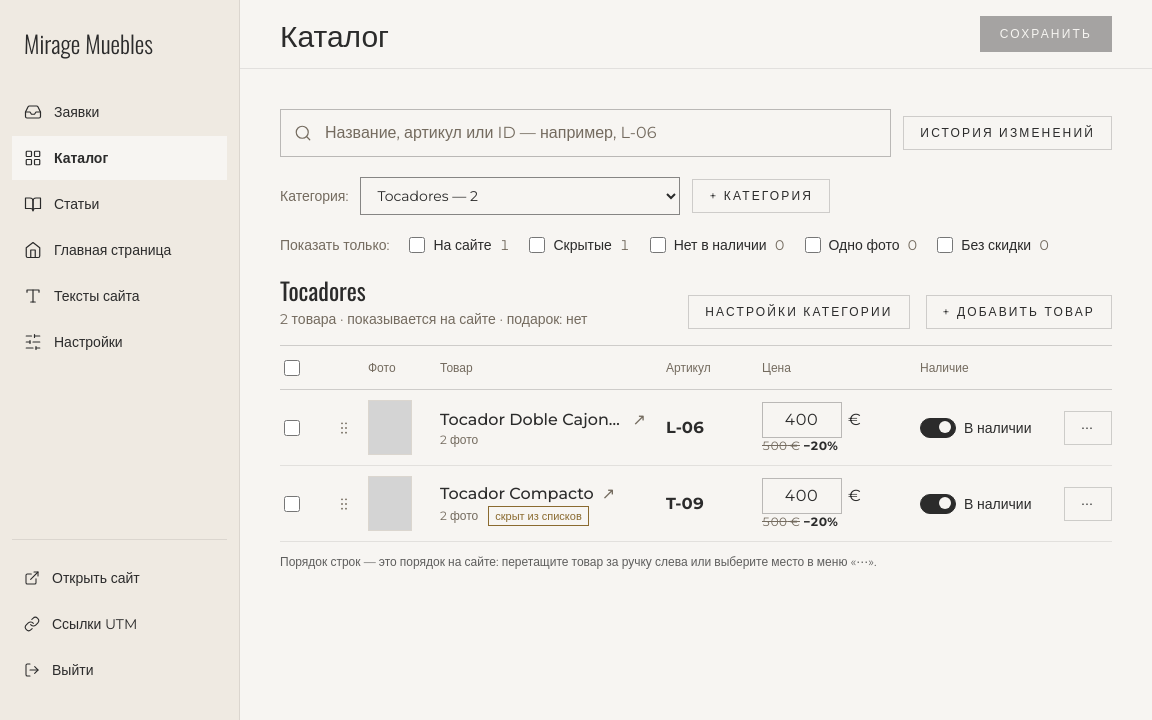
Test: CatalogSection — the product panel › opens a product from its row, and Back closes it
The width and height of the screenshot is (1152, 720).
expect the dropdown labelled "Категория:" is shown: met, box [360, 177, 680, 215]
Click the link "Tocador Doble Cajonera" at (532, 420), box [440, 408, 625, 432]
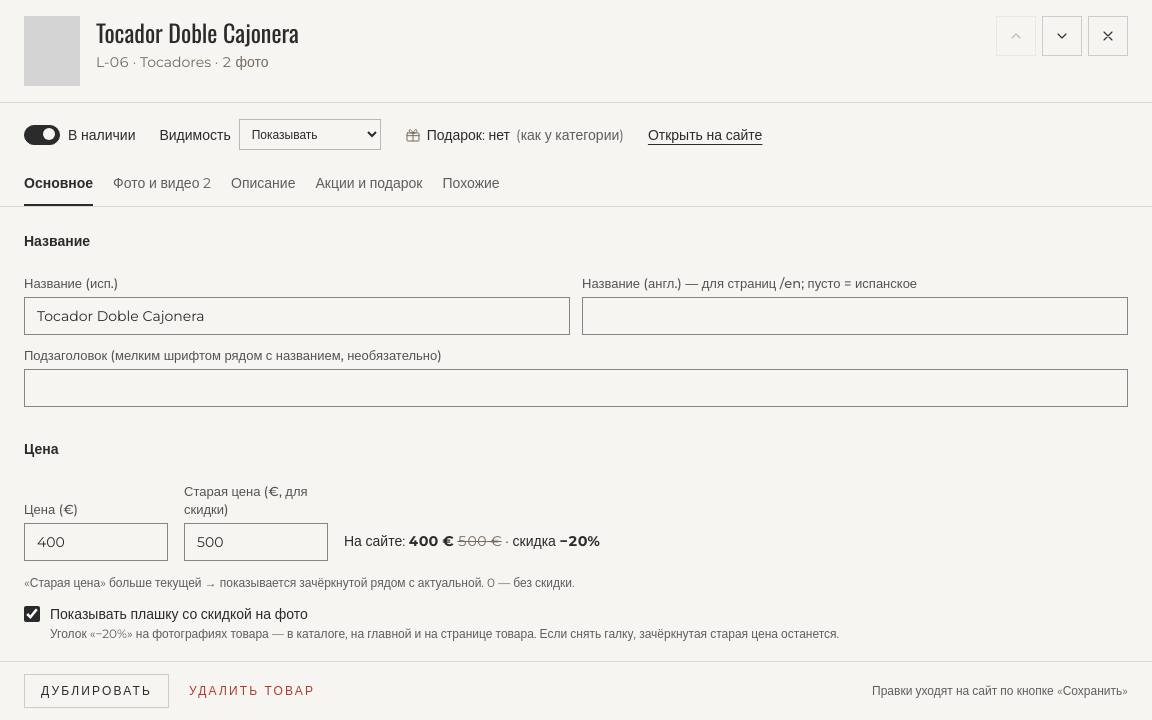
expect the dialog "Tocador Doble Cajonera" is shown: met
Click the button named "Закрыть товар" at (1108, 36), box [1088, 16, 1128, 56]
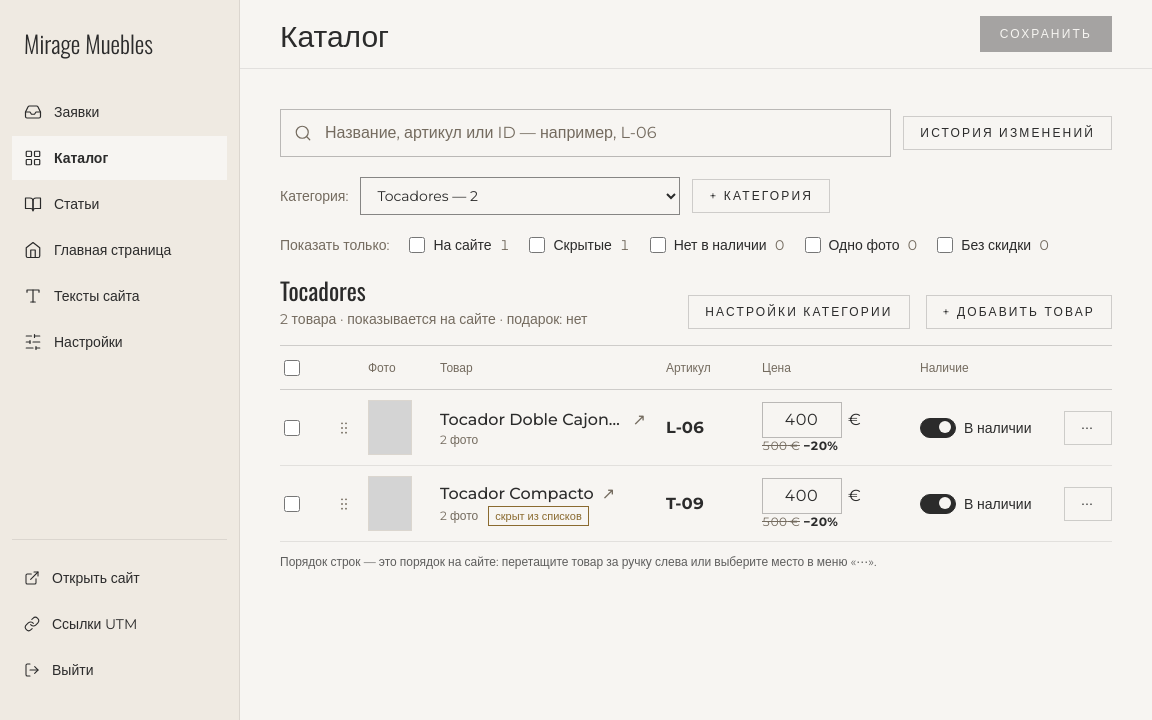
expect the dialog is gone: met
